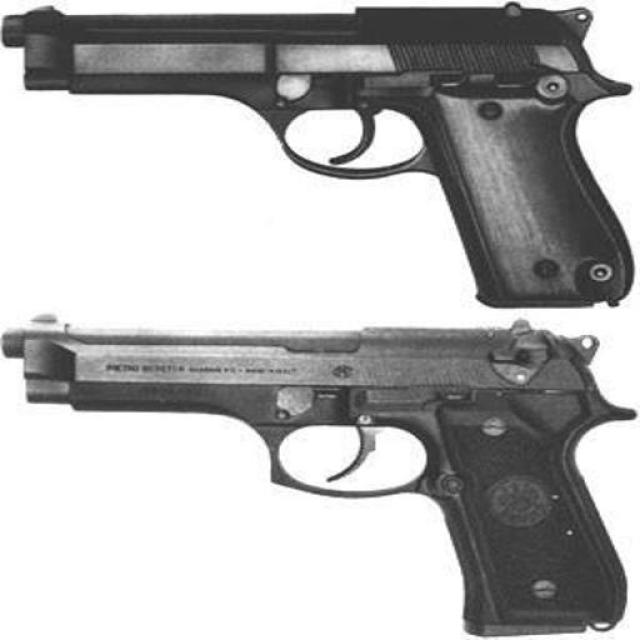pistol: (1, 311, 632, 633), (1, 5, 632, 309)
